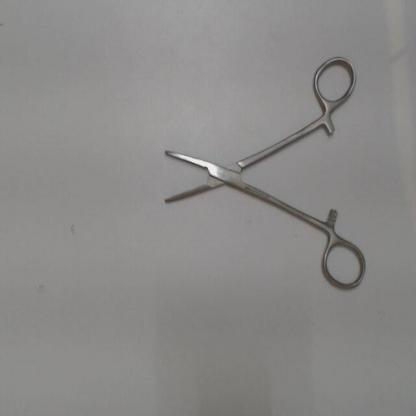Mayo Needle Holder: (152, 48, 370, 294)
